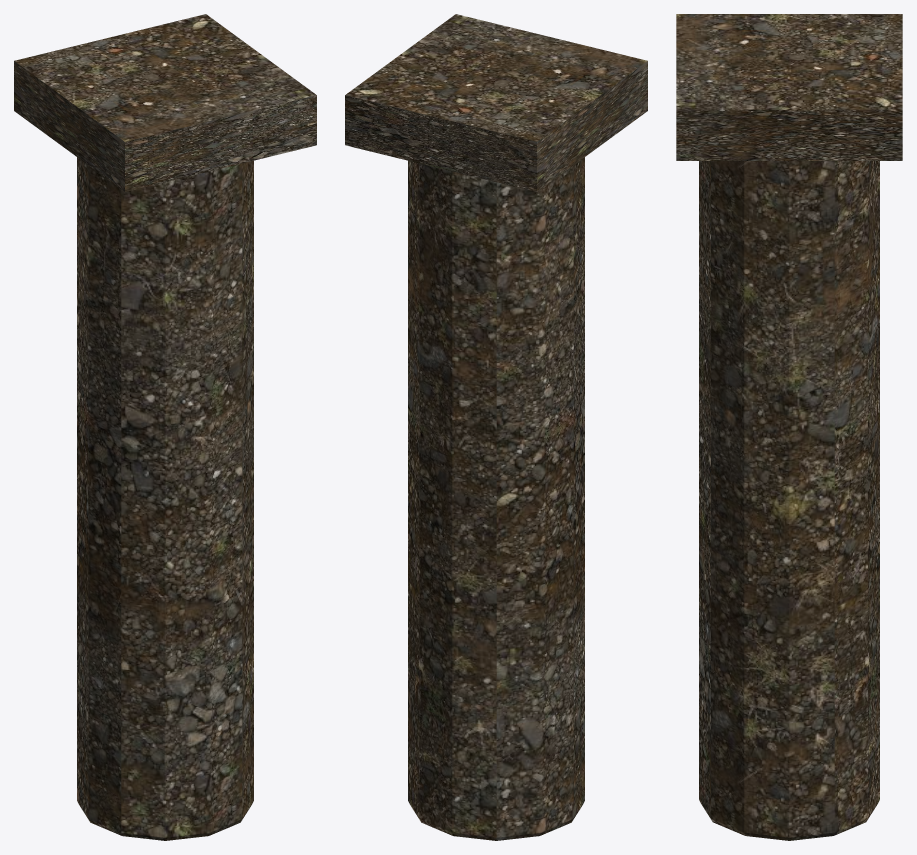
The model's file is pillar.glb.
The picture shows the model from 3 angles, left to right: view 1: azimuth 30°, elevation 25°; view 2: azimuth 150°, elevation 25°; view 3: azimuth 270°, elevation 25°; orthographic projection. The views are drawn at different scales.
Parts seen in each view (by area): view 1: pillar; view 2: pillar; view 3: pillar.
Boxes of the visible parts, box(x1,y1,x2,y2) form: pillar: box(14, 14, 316, 840); pillar: box(345, 14, 647, 840); pillar: box(676, 14, 902, 840).
Size of the model in its own units: 0.7 by 2.54 by 0.7.
Materials: 1 (1 with a texture image).
